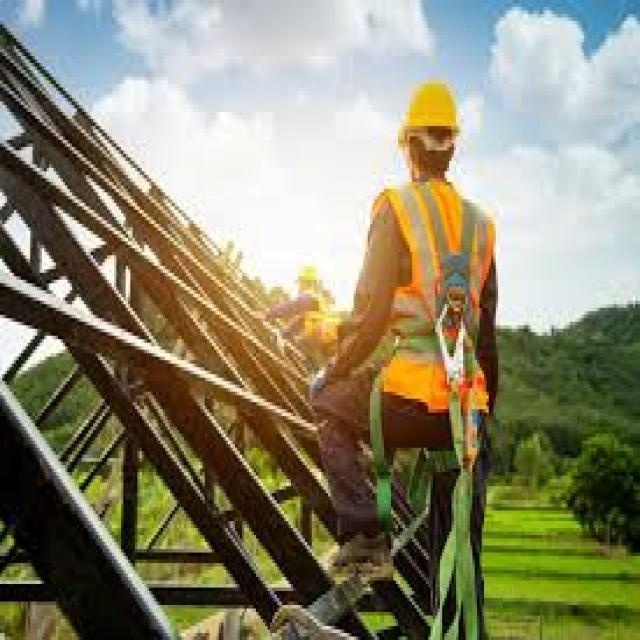Arnes_seguridad: (393, 179, 496, 418)
